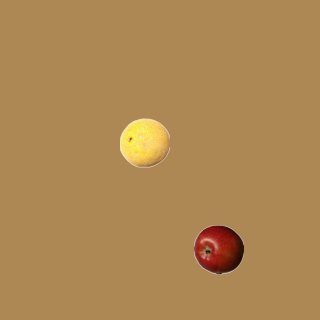Apple Braeburn: (193, 224, 243, 274)
Cantaloupe 1: (119, 117, 169, 167)
